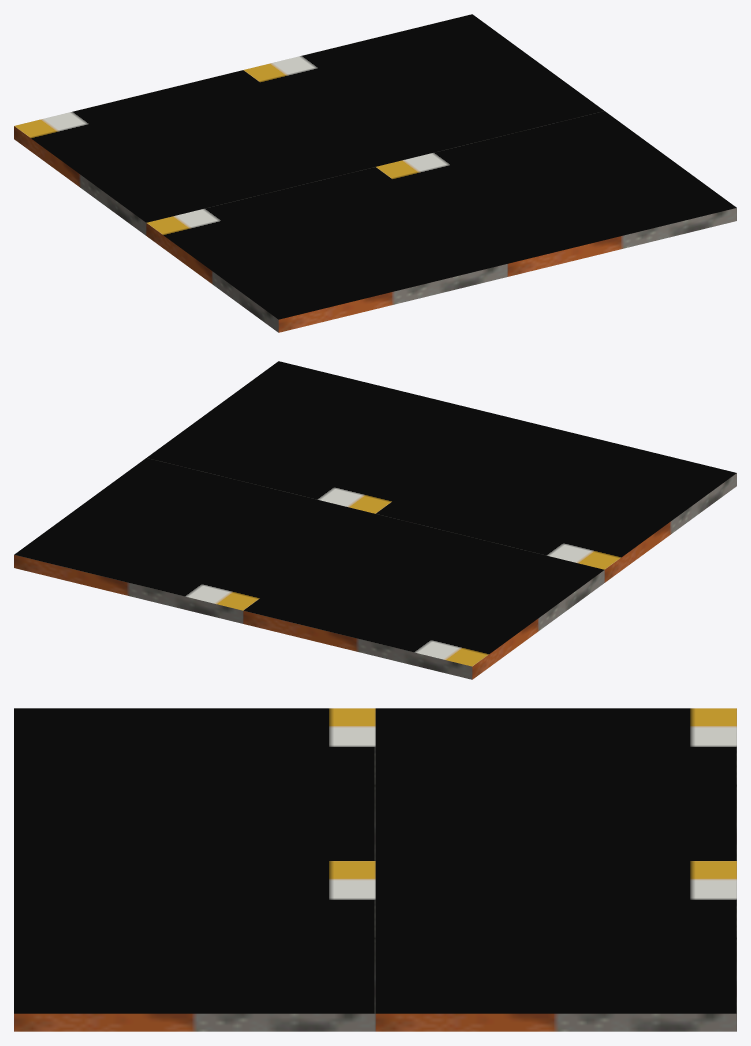
Rendered from SM_ground_moss.fbx.
3 renders of one model, top to bottom at view 1: azimuth 30°, elevation 25°; view 2: azimuth 150°, elevation 25°; view 3: azimuth 270°, elevation 25°, orthographic. The views are drawn at different scales.
Parts seen in each view (by area): view 1: ground_moss; view 2: ground_moss; view 3: ground_moss.
Part boxes in pixels (x1,y1,x2,y2): ground_moss: [14, 14, 736, 332]; ground_moss: [14, 361, 736, 679]; ground_moss: [14, 708, 736, 1031].
Bounding box in the file's own units: 4 × 0.11 × 4.
